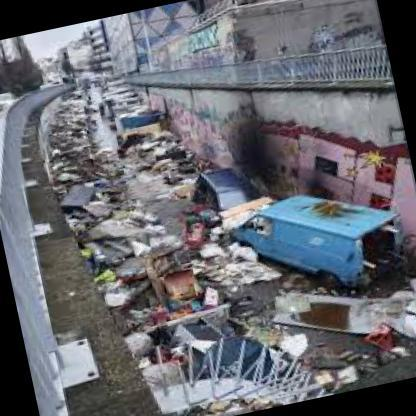Garbage: (128, 294, 302, 415), (95, 226, 199, 318), (54, 170, 148, 245), (191, 227, 266, 295), (342, 292, 415, 360), (47, 95, 98, 176)
